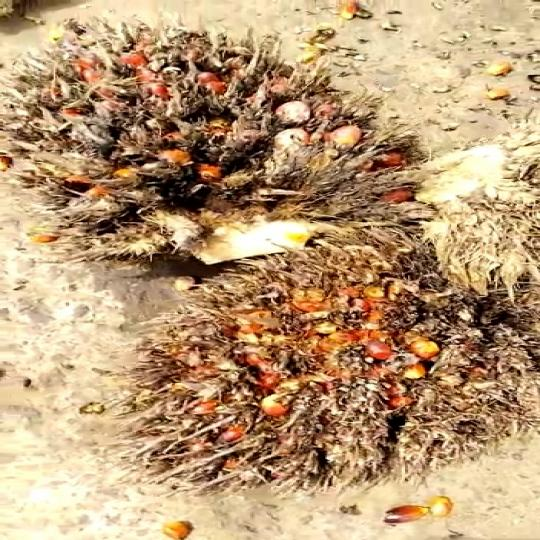terlalu masak: (0, 36, 458, 274), (118, 242, 540, 488)
